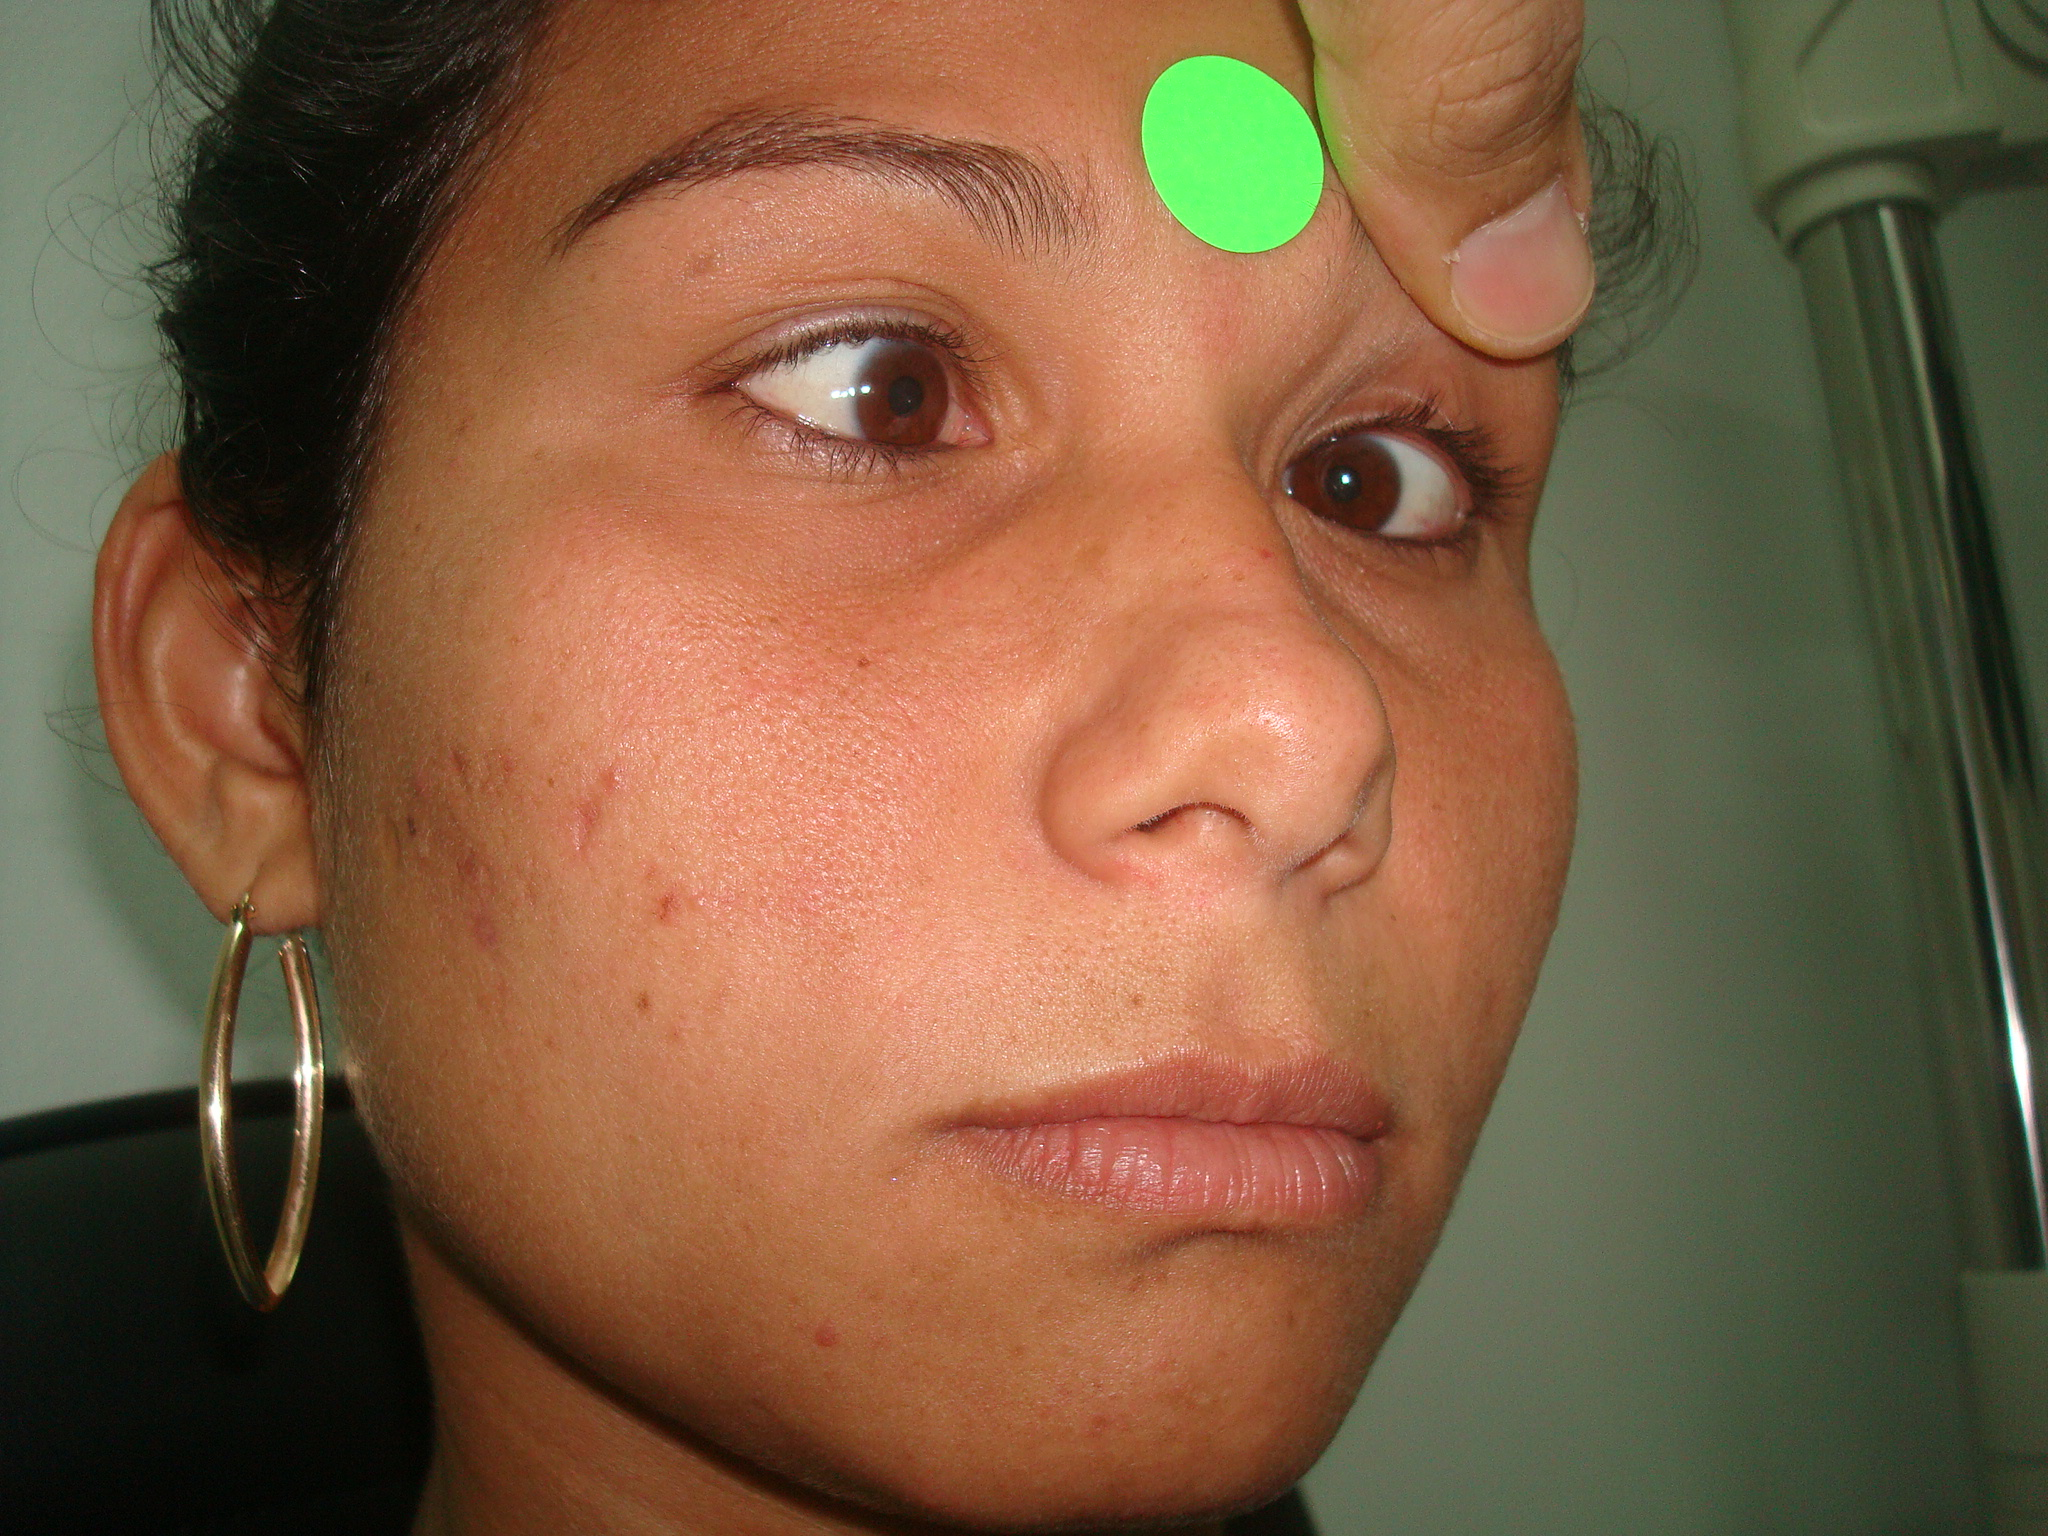flash: (858, 382, 872, 395), (1340, 473, 1351, 486)
limbo: (1290, 437, 1398, 531), (861, 349, 950, 445)
